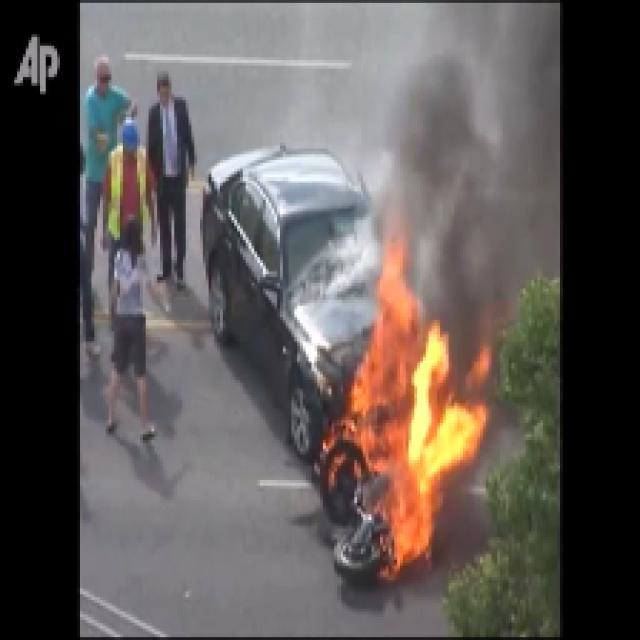Fire: (348, 324, 460, 554)
Smoke: (423, 17, 560, 307)
